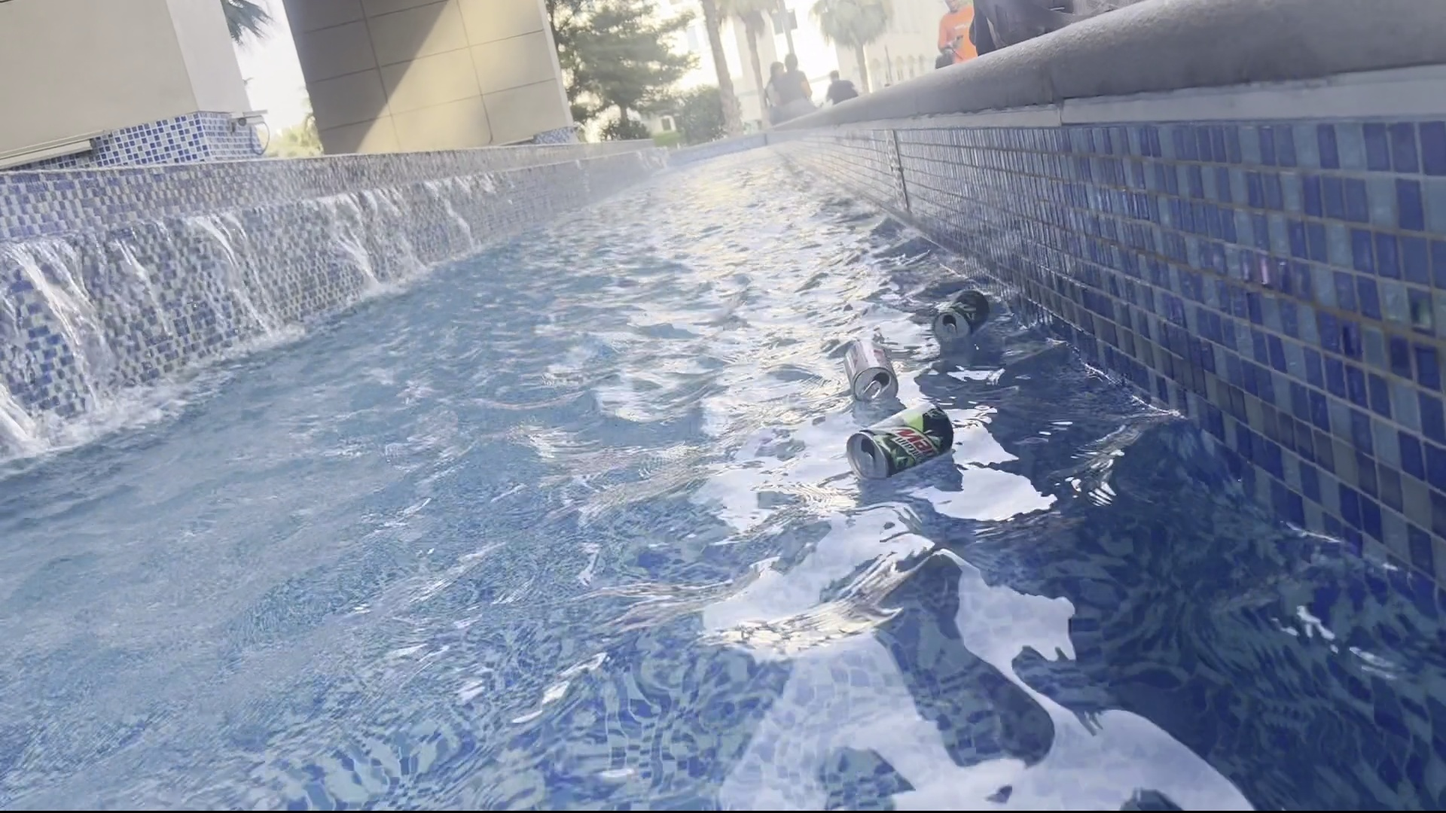debris: (839, 390, 956, 483), (832, 333, 906, 410), (923, 287, 999, 343)
